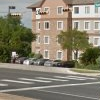crosswalk: (0, 75, 96, 87)
